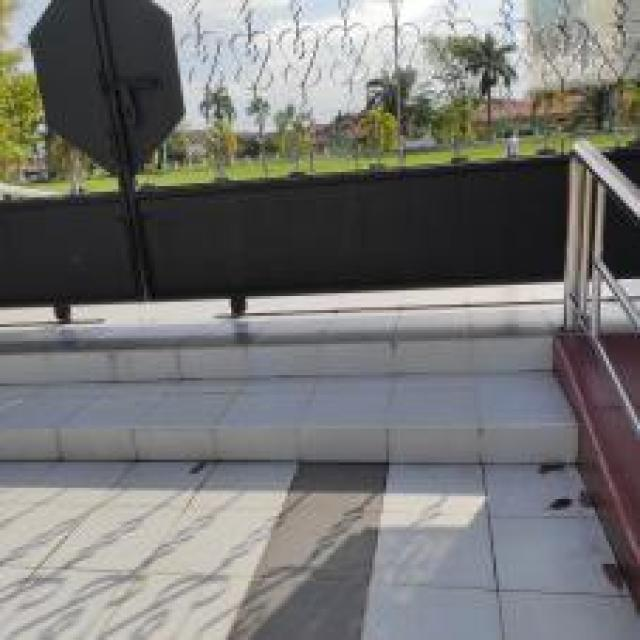upstair: (4, 323, 591, 473)
